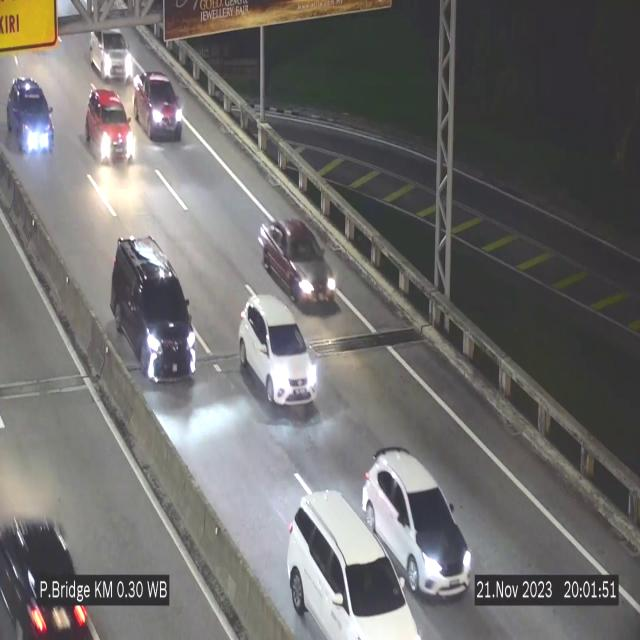Car: (279, 471, 427, 640), (362, 447, 471, 598), (104, 234, 198, 388), (0, 506, 100, 640), (238, 297, 318, 404), (258, 218, 338, 309), (82, 84, 138, 177), (3, 70, 57, 159), (132, 68, 184, 146), (88, 29, 133, 82)
